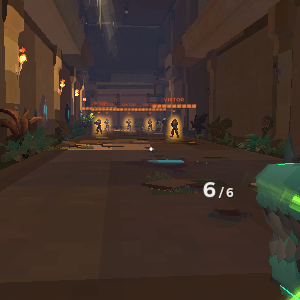model: (166, 117, 183, 141), (90, 116, 104, 138), (123, 116, 134, 133), (146, 117, 156, 133), (103, 118, 112, 133)
